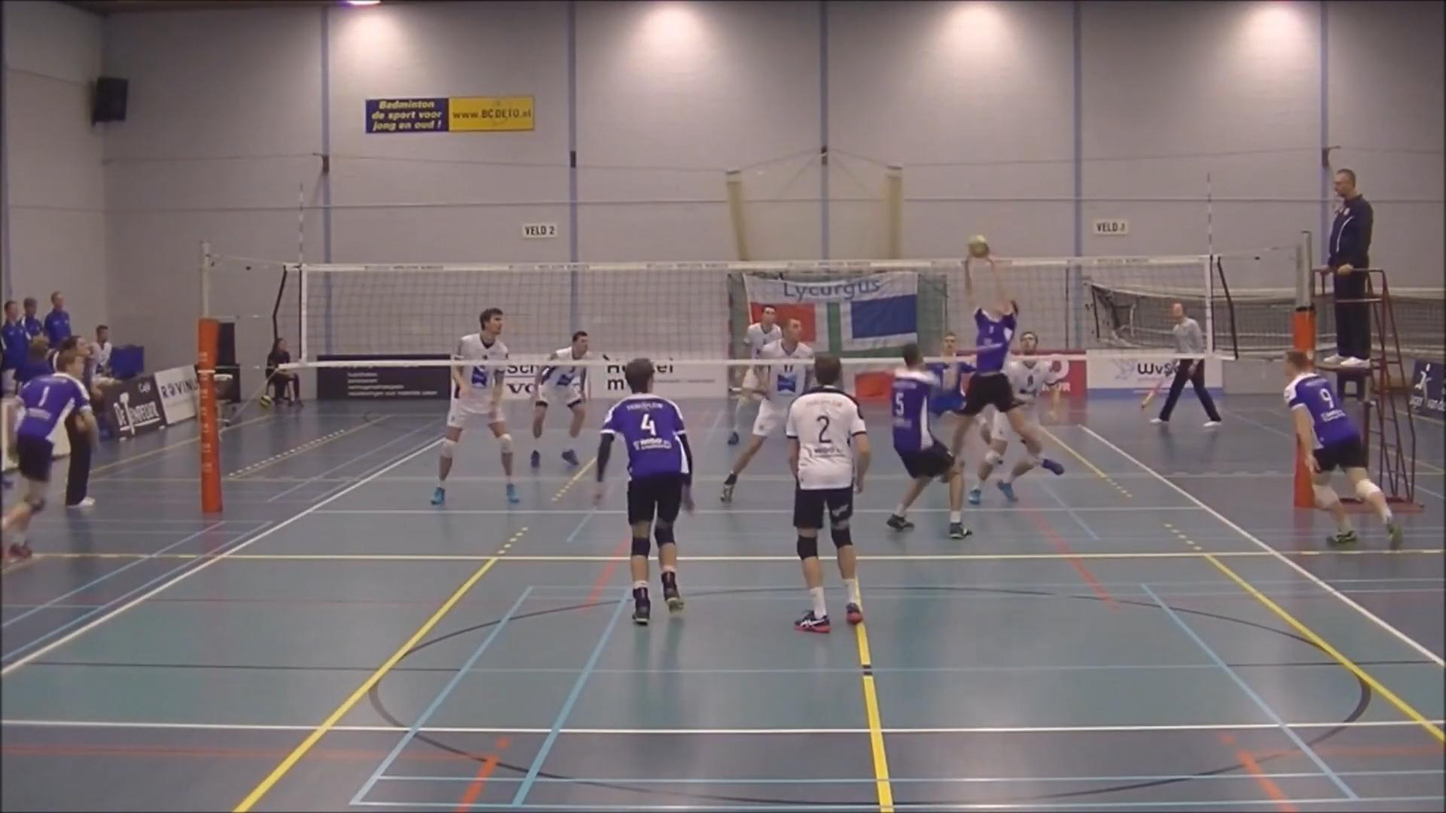Player: (594, 360, 692, 625), (786, 354, 871, 632), (1284, 350, 1402, 549), (3, 349, 97, 561), (431, 308, 520, 504), (721, 318, 813, 503), (886, 344, 970, 539), (530, 331, 590, 467), (927, 331, 974, 459), (1005, 331, 1062, 431), (728, 367, 759, 444)
Set: (934, 248, 1070, 479)
ball: (965, 232, 991, 262)
